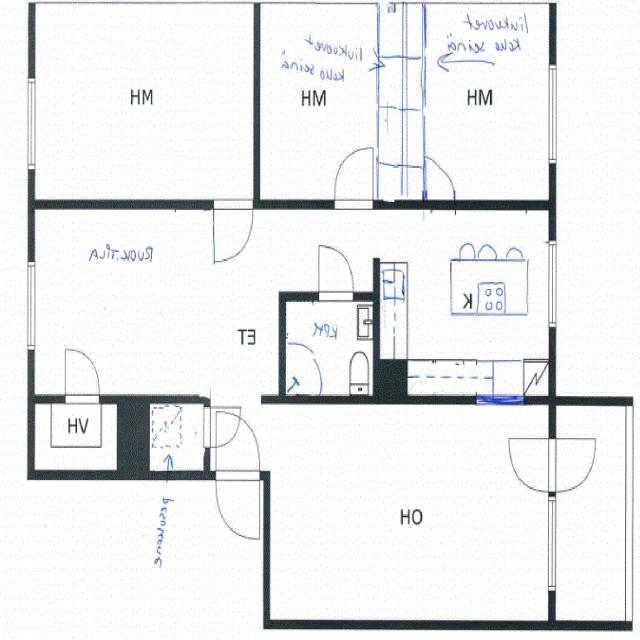door: (216, 412, 260, 480), (216, 471, 260, 538), (509, 438, 556, 492), (549, 438, 595, 492), (213, 199, 252, 261), (335, 148, 373, 208), (65, 349, 100, 405), (427, 152, 461, 208), (319, 247, 353, 302), (204, 407, 240, 447)
